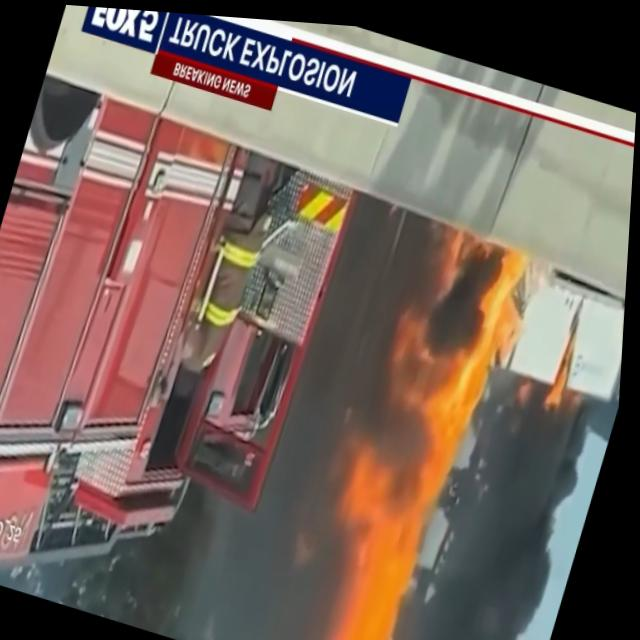Fire: (312, 208, 538, 640), (290, 178, 342, 227)
